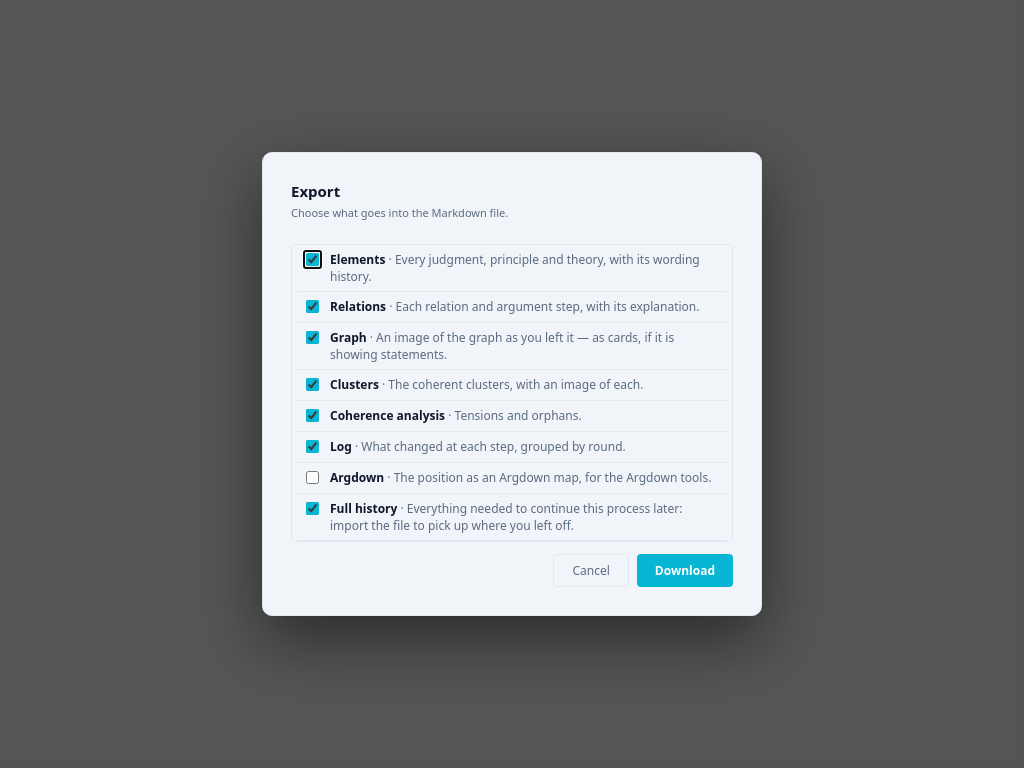
Test: ExportModal › warns that a file without the full history cannot be reopened
The image size is (1024, 768).
Click the 8th checkbox. click: (312, 508)
box: [306,502,319,515]
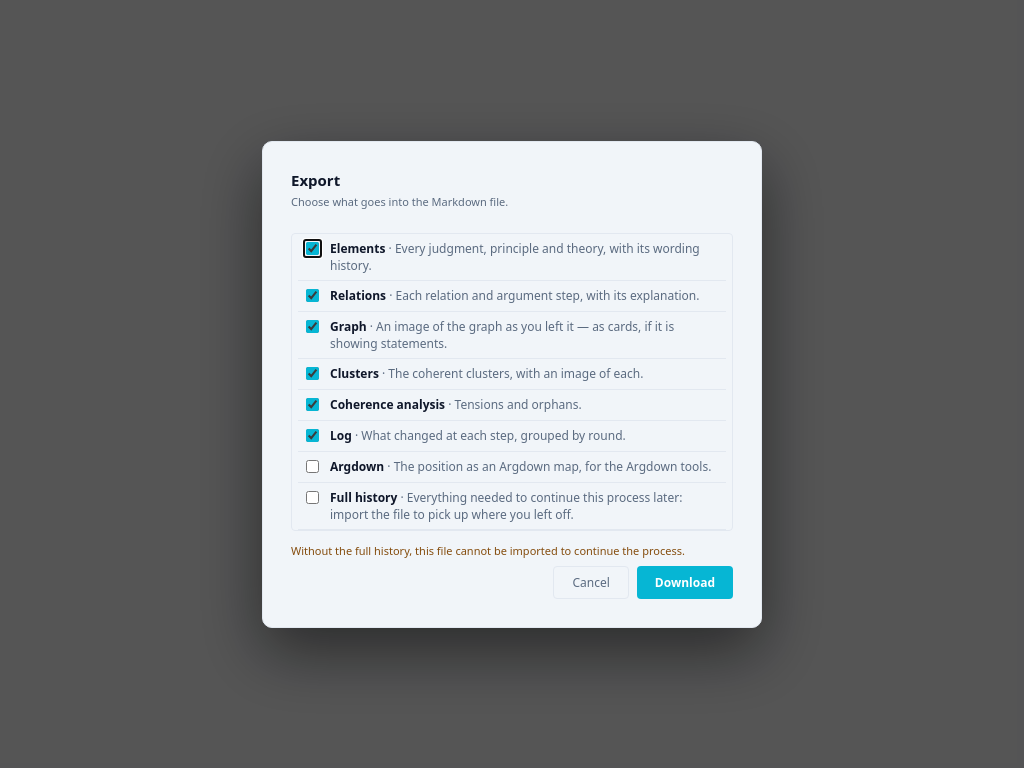
Check: the text "cannot be imported to continue the process" is shown, box [291,542,685,558]
